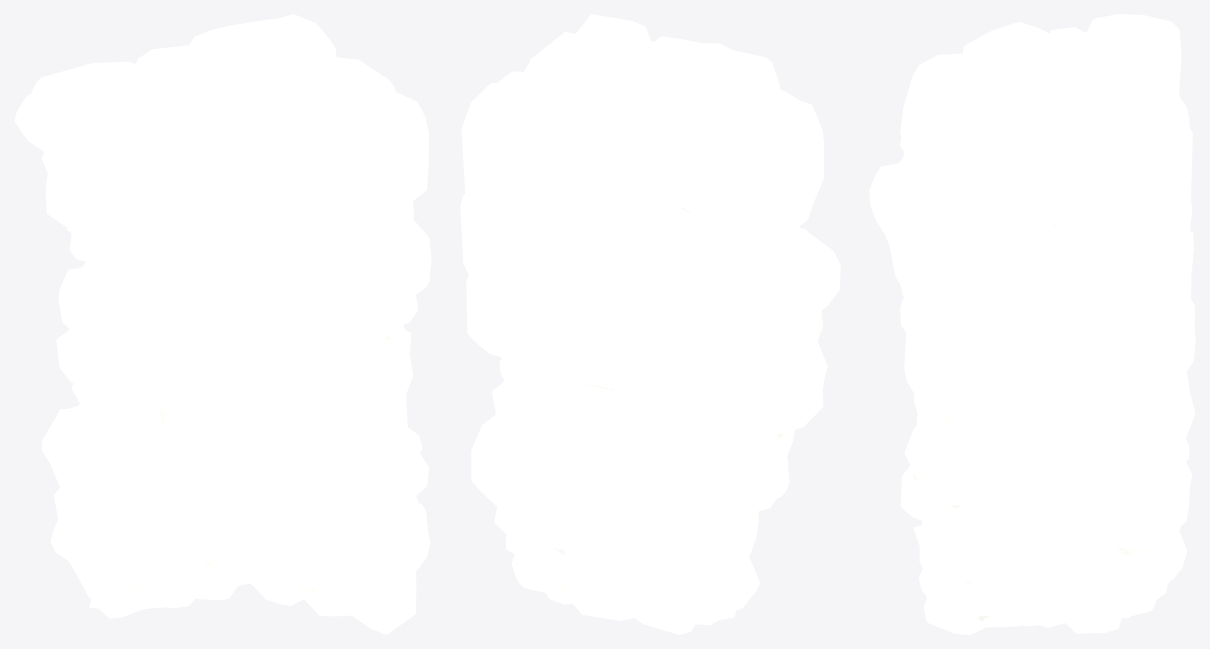
Rendered from Ruins_CNR_A.fbx.
The picture shows the model from 3 angles, left to right: view 1: azimuth 30°, elevation 25°; view 2: azimuth 150°, elevation 25°; view 3: azimuth 270°, elevation 25°; orthographic projection. The views are drawn at different scales.
Visible parts, largest first — view 1: Dn_HL_Wall_Cnr_A.001; view 2: Dn_HL_Wall_Cnr_A.001; view 3: Dn_HL_Wall_Cnr_A.001.
Boxes of the visible parts, bbox=[...] form: Dn_HL_Wall_Cnr_A.001: bbox=[14, 14, 431, 634]; Dn_HL_Wall_Cnr_A.001: bbox=[460, 14, 840, 634]; Dn_HL_Wall_Cnr_A.001: bbox=[869, 14, 1195, 634].
Size of the model in its own units: 4894 by 8208 by 4700.
